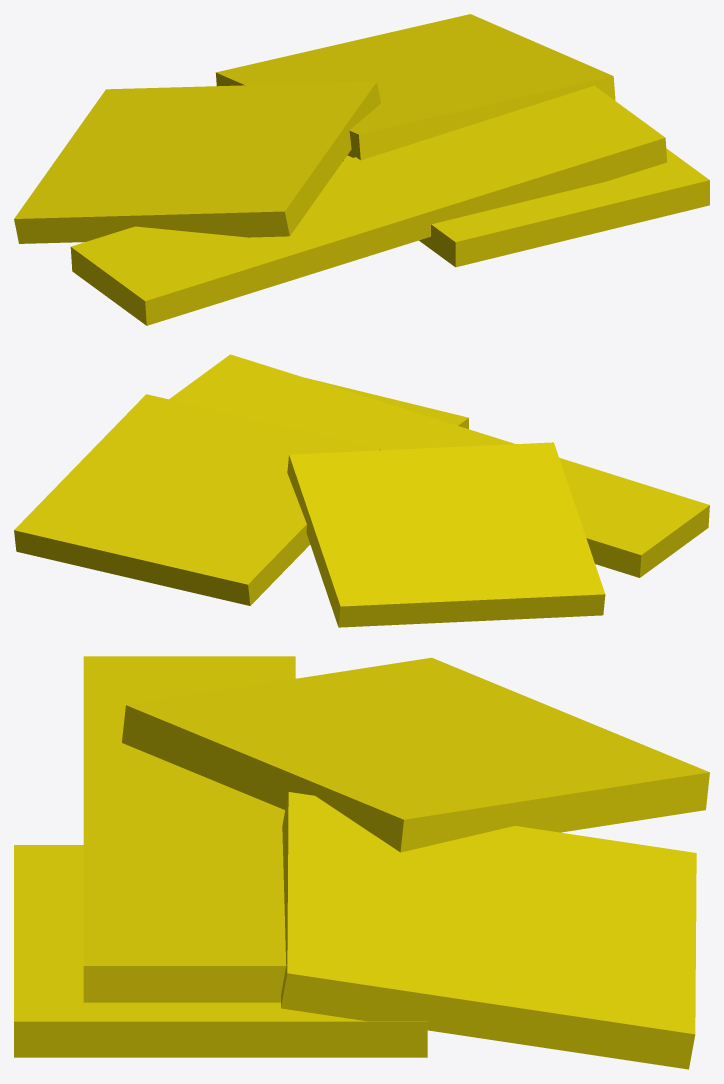
File: Wood_Debris_Pile_01_Lod1.fbx
3 views of the same model, one above another, from view 1: azimuth 30°, elevation 25°; view 2: azimuth 150°, elevation 25°; view 3: azimuth 270°, elevation 25° (orthographic). The views are drawn at different scales.
Visible parts, largest first — view 1: Wood_Debris_Pile_01_Lod1; view 2: Wood_Debris_Pile_01_Lod1; view 3: Wood_Debris_Pile_01_Lod1.
Boxes of the visible parts, <box> form: Wood_Debris_Pile_01_Lod1: <box>14,14,709,325</box>; Wood_Debris_Pile_01_Lod1: <box>14,354,709,627</box>; Wood_Debris_Pile_01_Lod1: <box>14,656,709,1069</box>.
Bounding box in the file's own units: 659 × 95.3 × 508.
